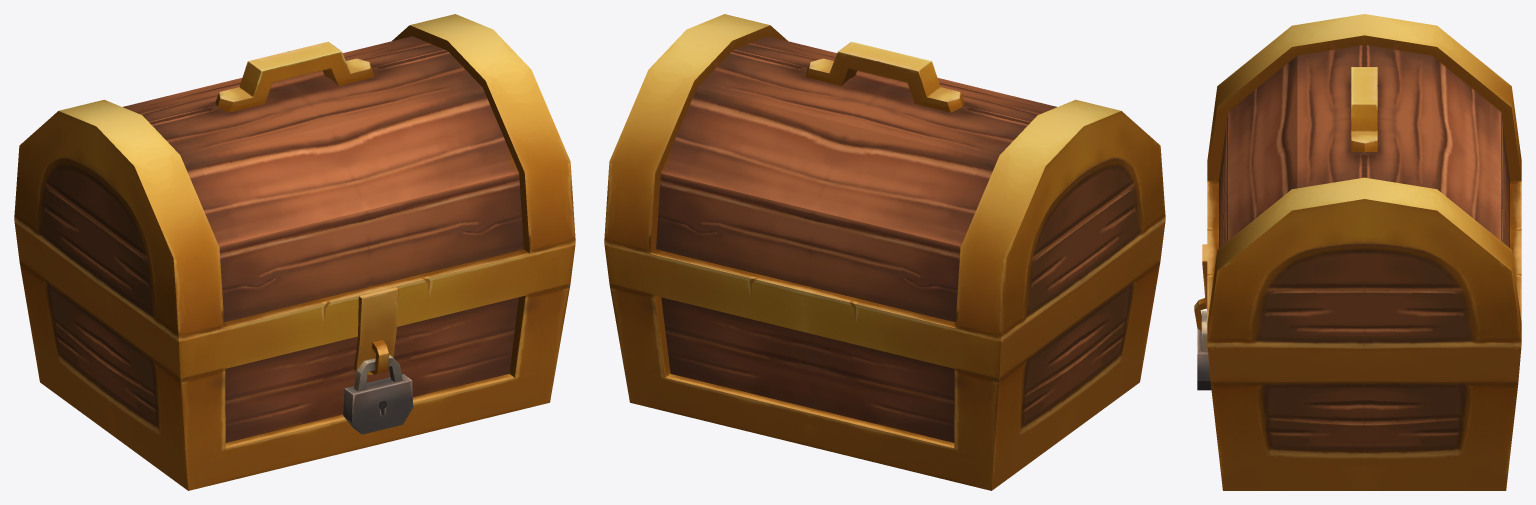
The model's file is ENV2010058.fbx.
3 views of the same model, side by side, from view 1: azimuth 30°, elevation 25°; view 2: azimuth 150°, elevation 25°; view 3: azimuth 270°, elevation 25° (orthographic). The views are drawn at different scales.
Visible parts, largest first — view 1: smENV2010058; view 2: smENV2010058; view 3: smENV2010058.
Part boxes in pixels (x1,y1,x2,y2): smENV2010058: (14, 14, 575, 490); smENV2010058: (604, 14, 1165, 490); smENV2010058: (1194, 14, 1521, 490).
Size of the model in its own units: 35.69 by 28.87 by 26.68.
1 material, 1 textured.
